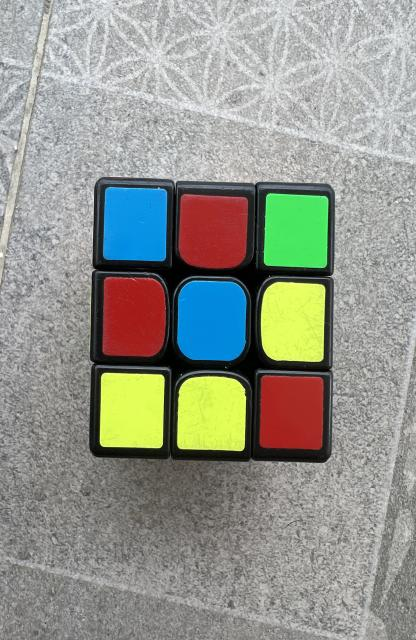Blue: (178, 281, 247, 361), (103, 188, 167, 261)
Green: (263, 194, 328, 269)
Red: (179, 194, 248, 269), (103, 278, 166, 356), (260, 376, 324, 450)
Yellow: (261, 282, 326, 362), (177, 376, 246, 451), (100, 372, 165, 449)
